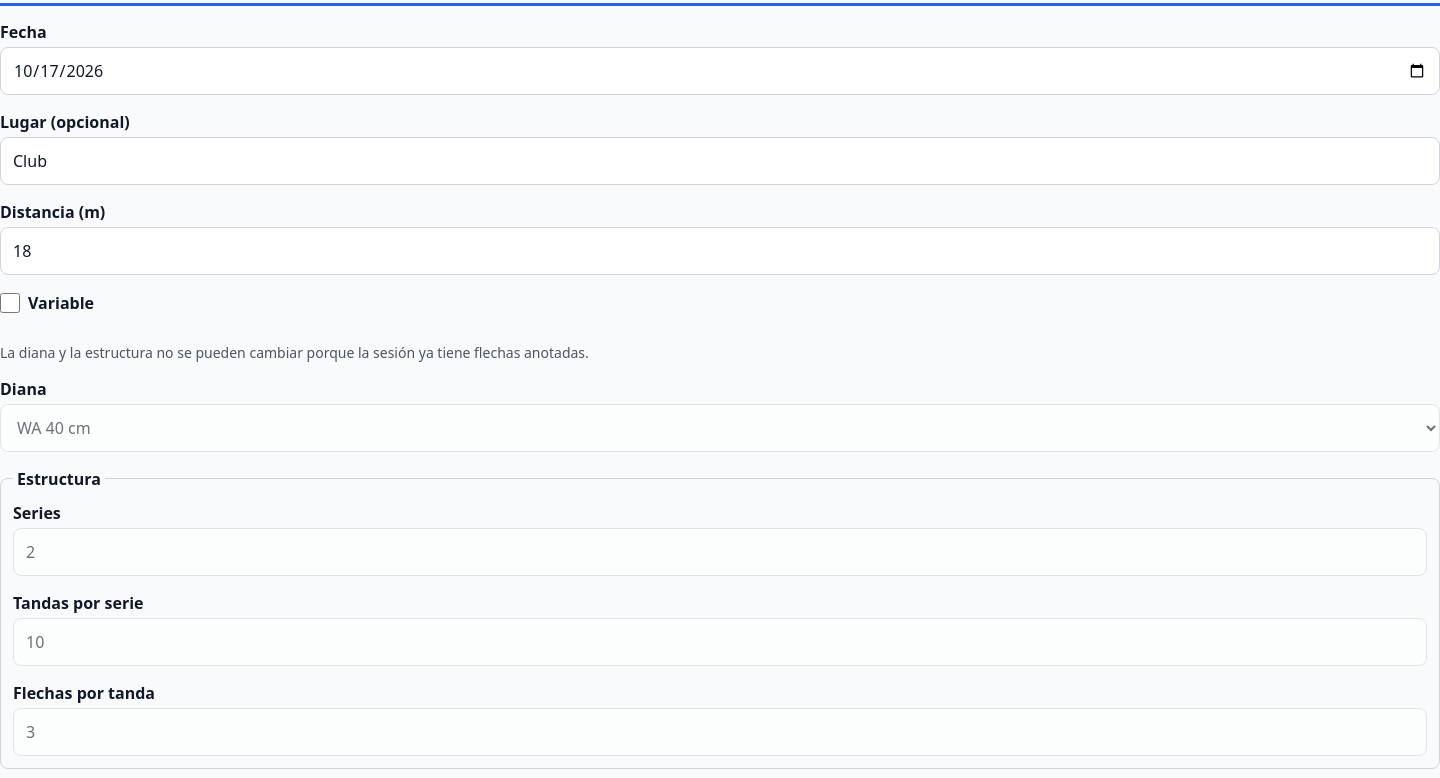
Test: EditSessionView delete (CU-12) › the message uses the stored date, not an unsaved edit of the date field
Type "2027-01-02" into the date field with id "es-date". click: (720, 71)
box: [0,47,1439,95]
(page scrolled)
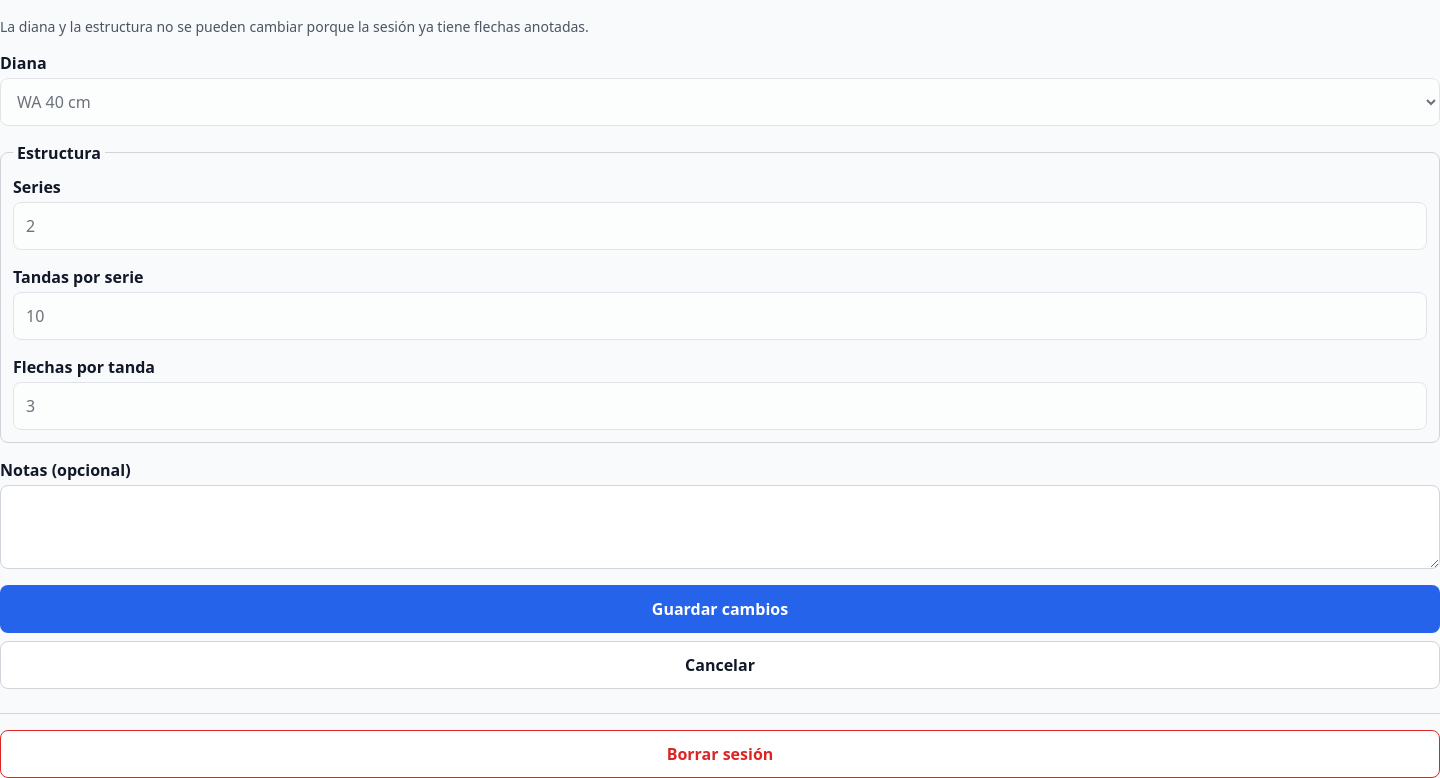
Click the button with test id "delete-session". click: (720, 754)
box: [0,730,1439,777]
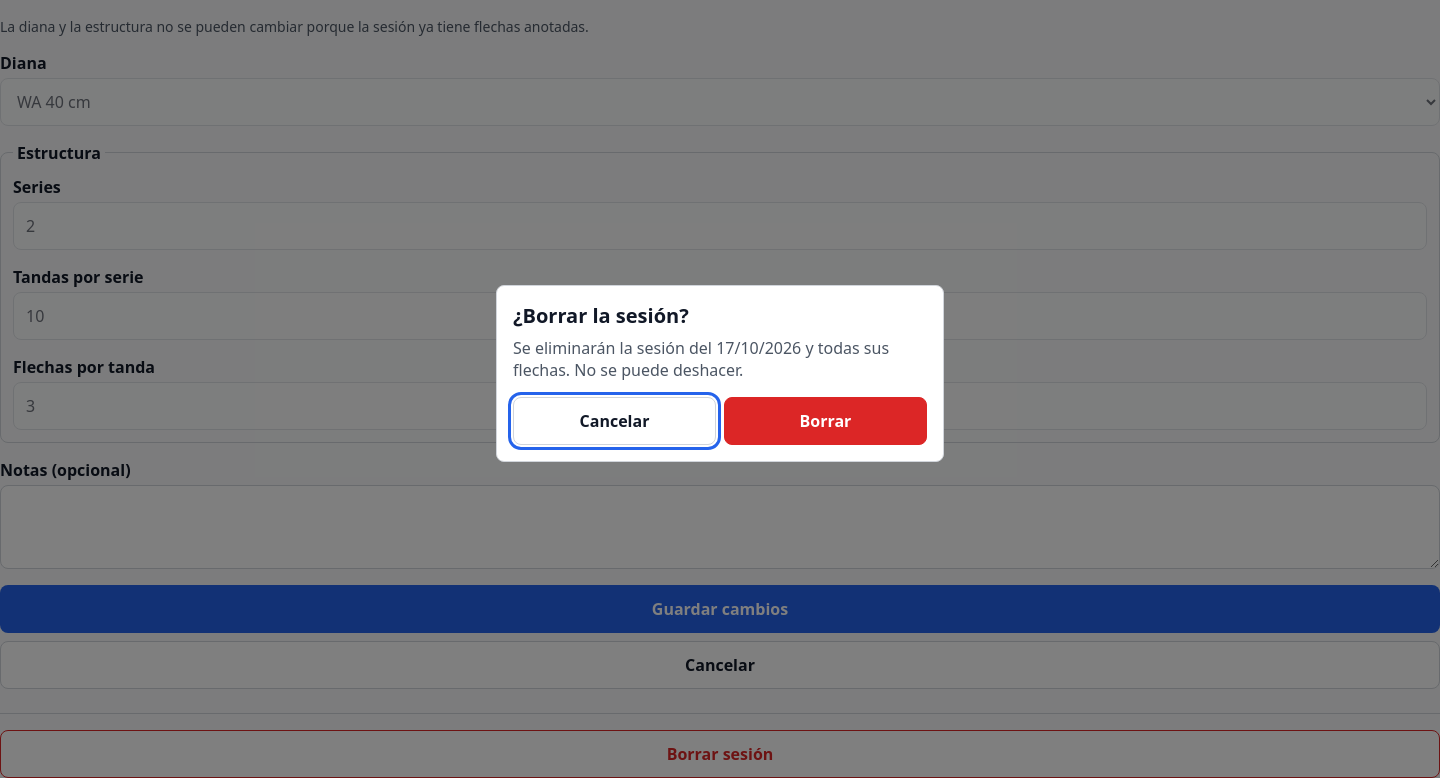
Result: the dialog is shown at [496,284,944,462]
Result: the text with id "confirm-dialog-message" shows "Se eliminarán la sesión del 17/10/2026 y todas sus flechas. No se puede deshacer." at [513,336,889,380]
